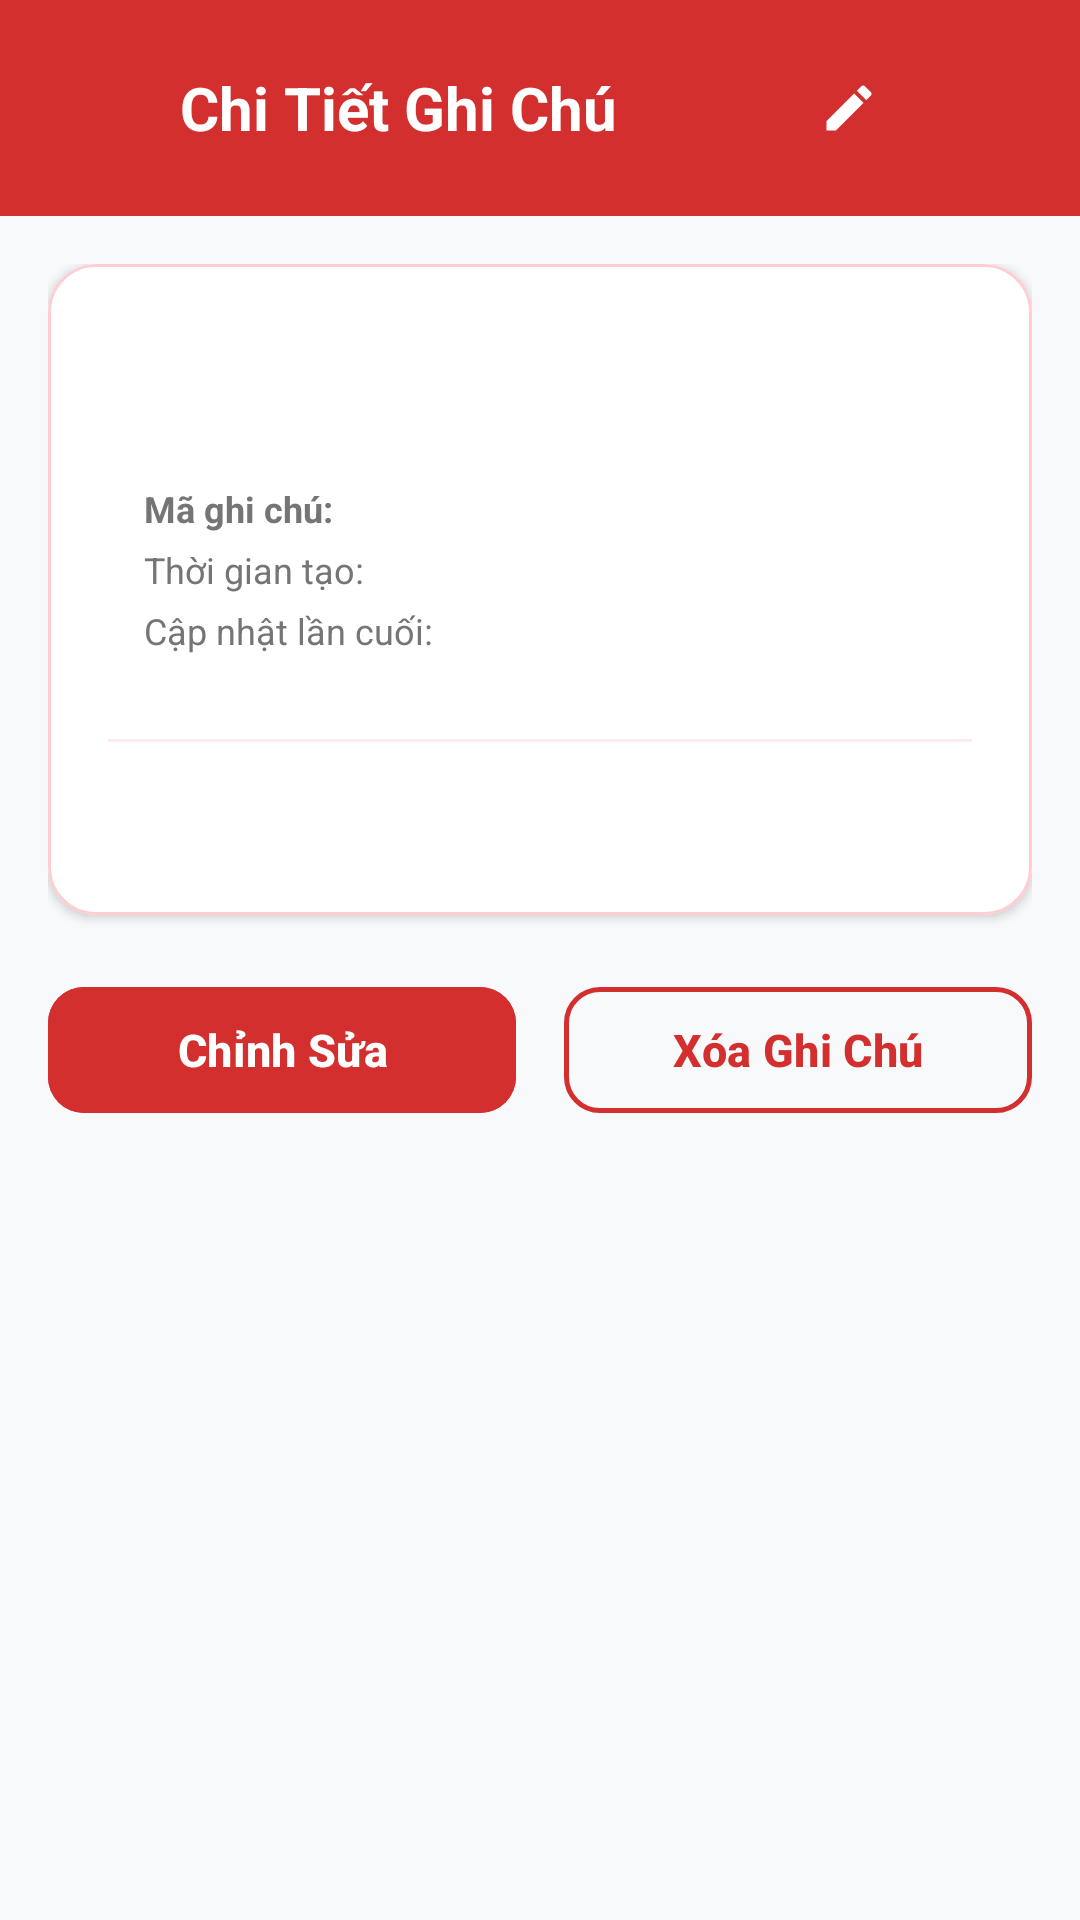

Icons on this 1080 x 1920 Android screen, each with its box as (x1=x1, y1=y1, x2=x2, y2=y2):
Chỉnh sửa ghi chú: (x1=826, y1=85, x2=872, y2=131)
